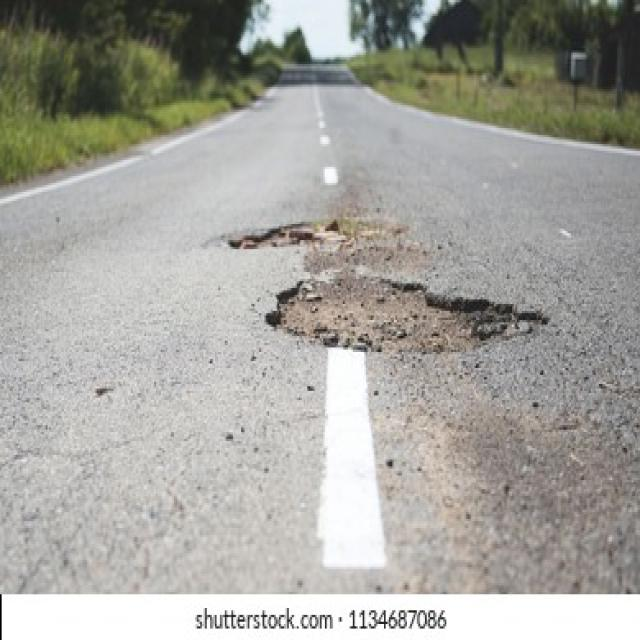Pothole: (238, 217, 551, 359)
